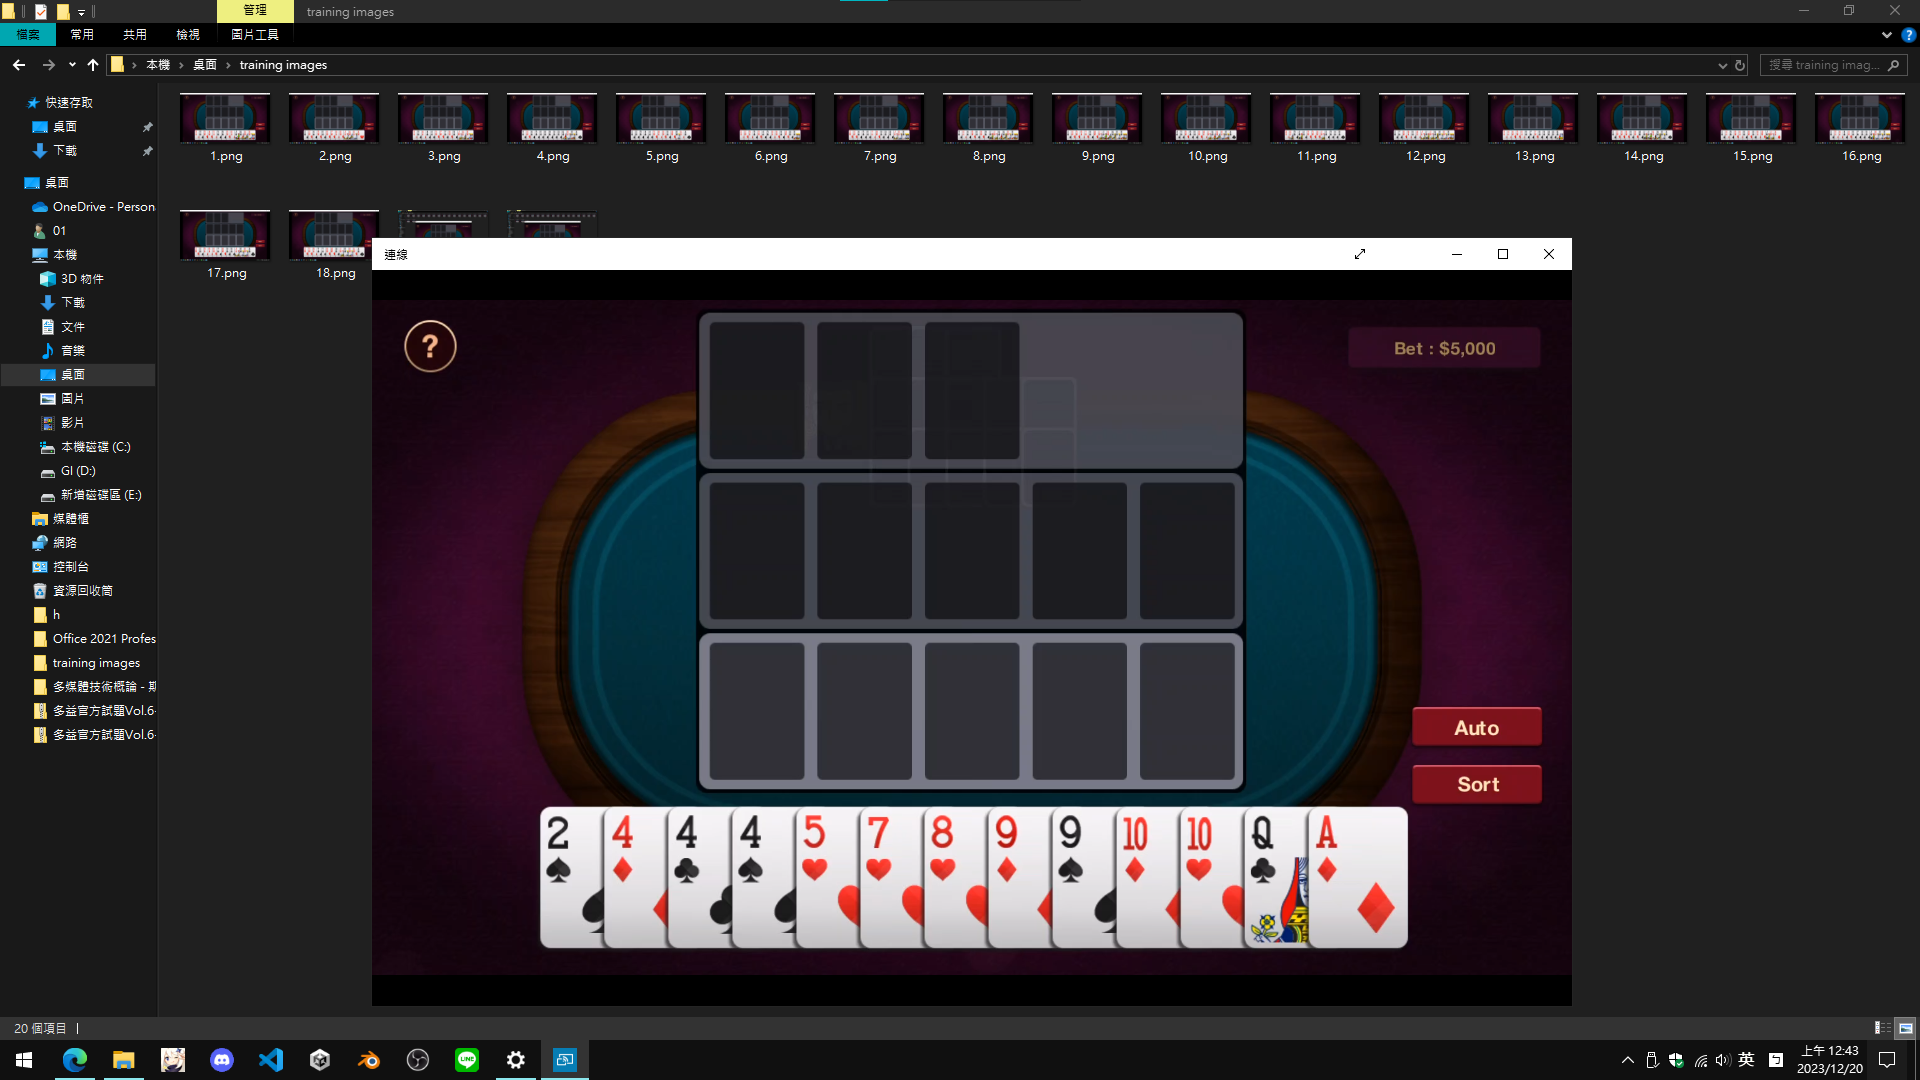10D: (1120, 814, 1150, 884)
10H: (1184, 812, 1216, 885)
2S: (543, 814, 576, 889)
4C: (673, 811, 700, 889)
4D: (608, 811, 638, 887)
4S: (735, 811, 767, 887)
5H: (800, 811, 831, 885)
7H: (864, 812, 898, 887)
8H: (927, 812, 959, 885)
9D: (990, 811, 1022, 889)
9S: (1054, 812, 1087, 891)
AD: (1313, 811, 1342, 889)
QC: (1247, 811, 1280, 887)
